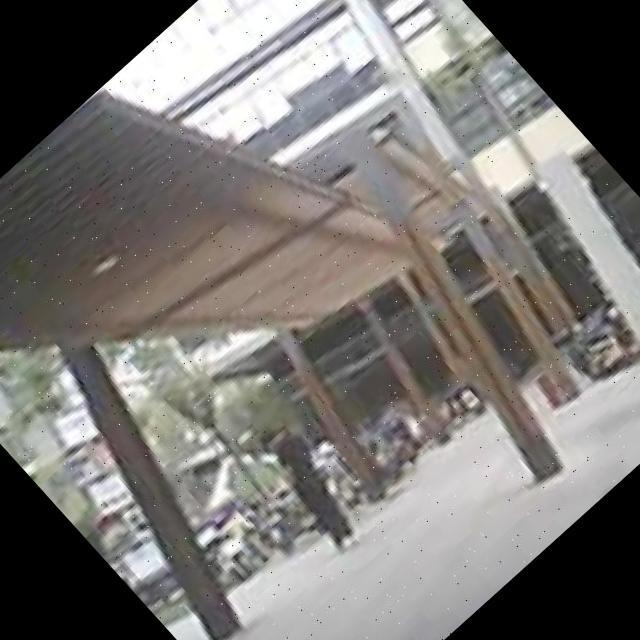person: (250, 416, 384, 556)
